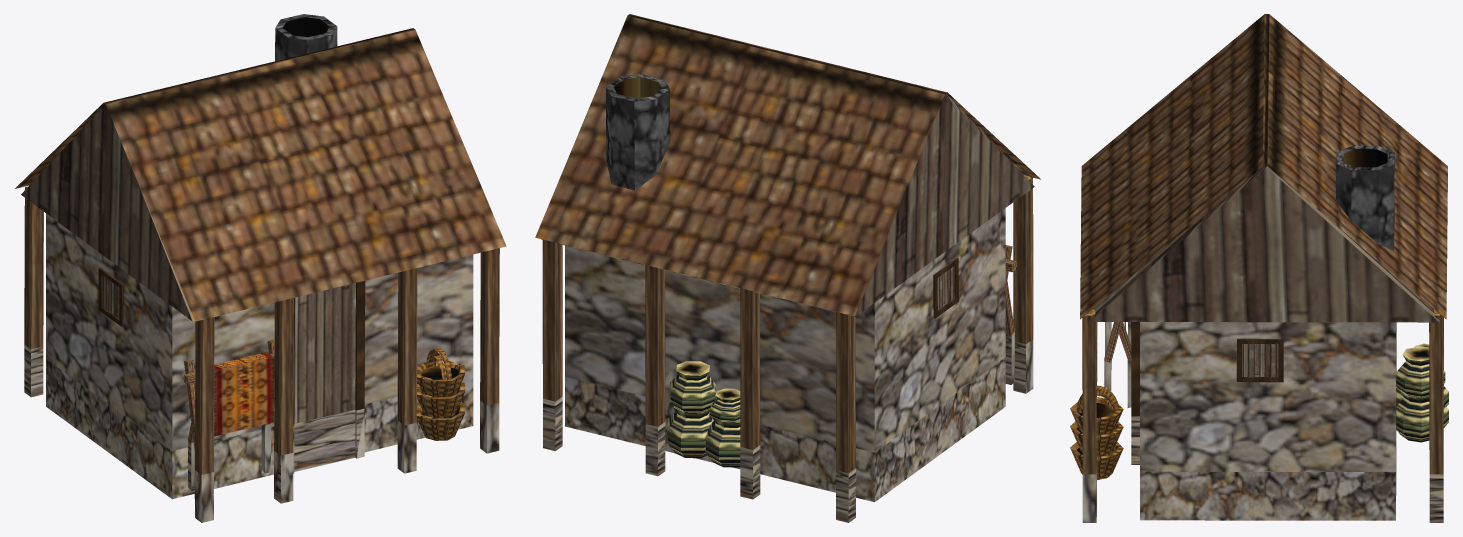
The model's file is house_4.dae.
3 renders of one model, left to right at view 1: azimuth 30°, elevation 25°; view 2: azimuth 150°, elevation 25°; view 3: azimuth 270°, elevation 25°, orthographic. The views are drawn at different scales.
Parts seen in each view (by area): view 1: house_4; view 2: house_4; view 3: house_4.
Boxes of the visible parts, left/top/right/bottom form: house_4: left=15, top=14, right=506, bottom=522; house_4: left=535, top=14, right=1040, bottom=522; house_4: left=1070, top=14, right=1448, bottom=522.
Bounding box in the file's own units: 10.64 × 11.1 × 11.59.
